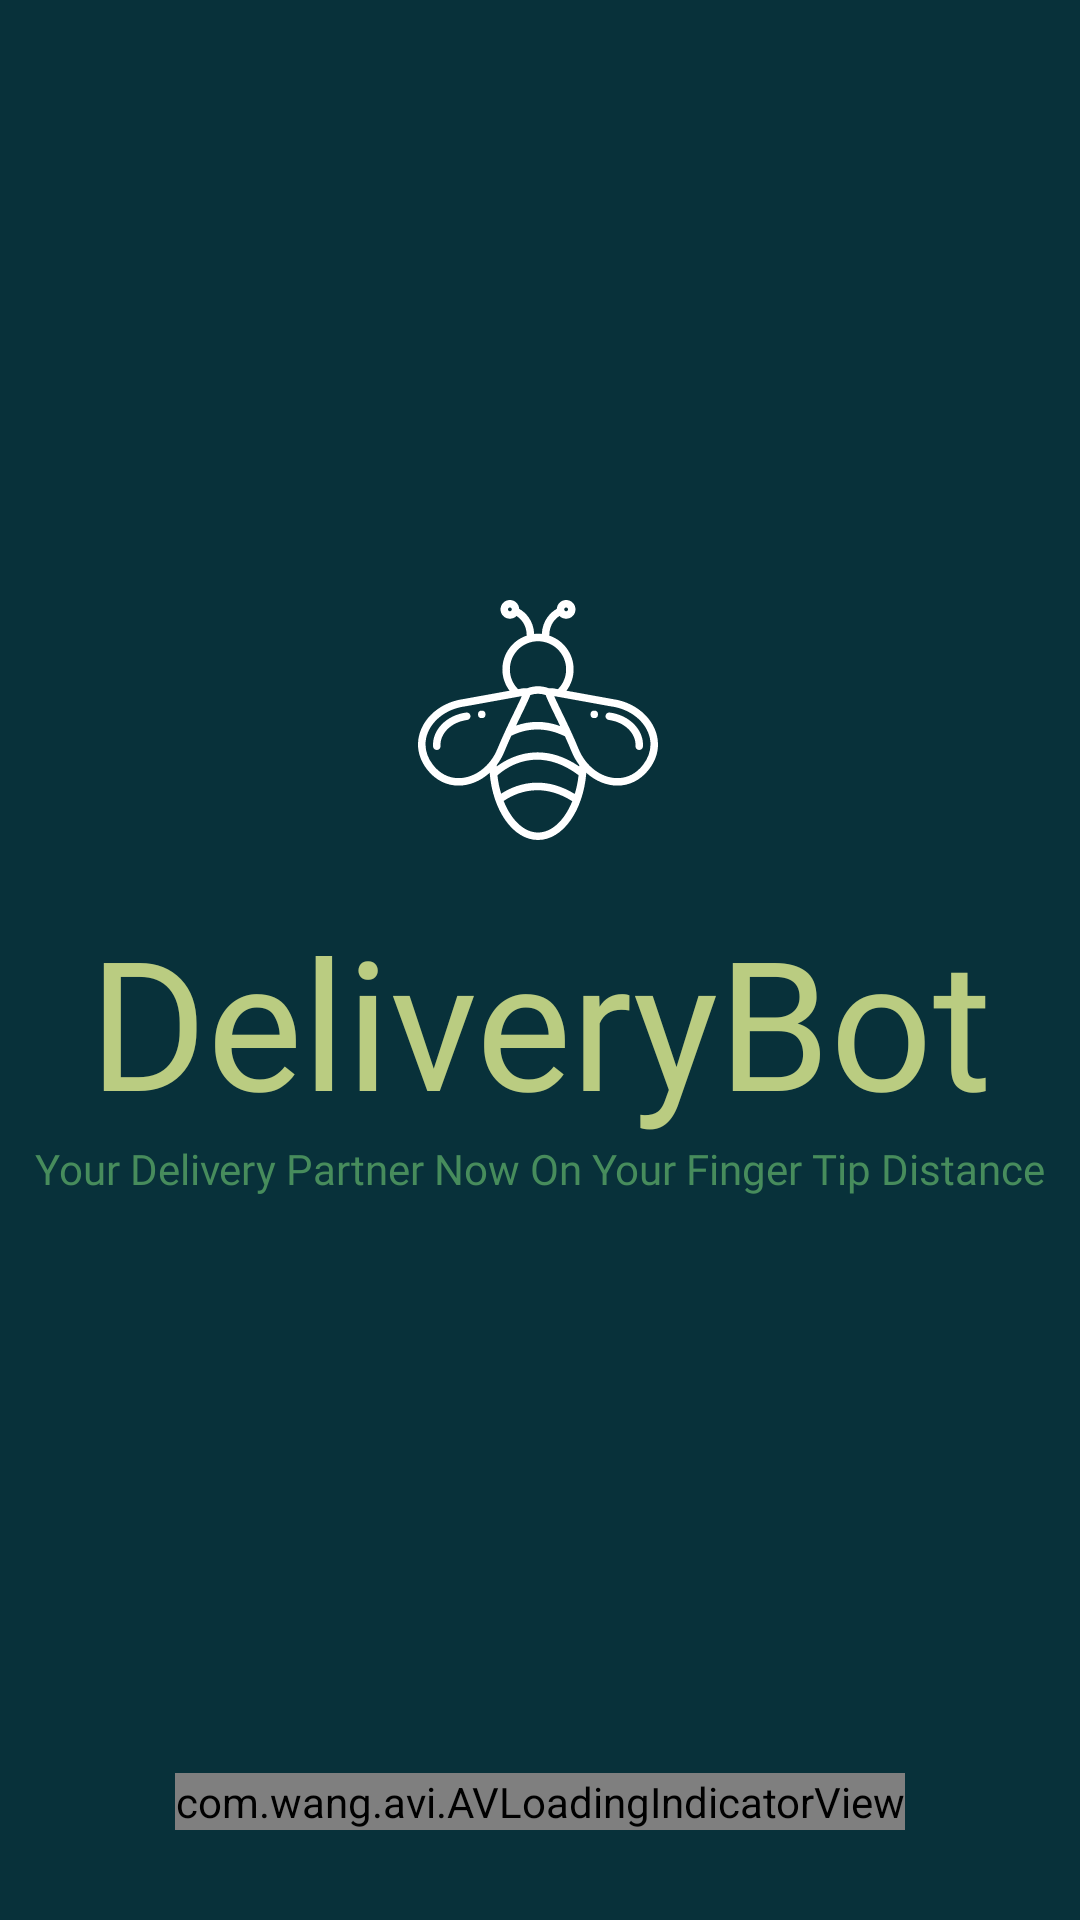

Locate icon controls on the screen. Image size 1080x1920, boxes as (x1, y1, x2, y2).
noun bee: (418, 600, 658, 840)
